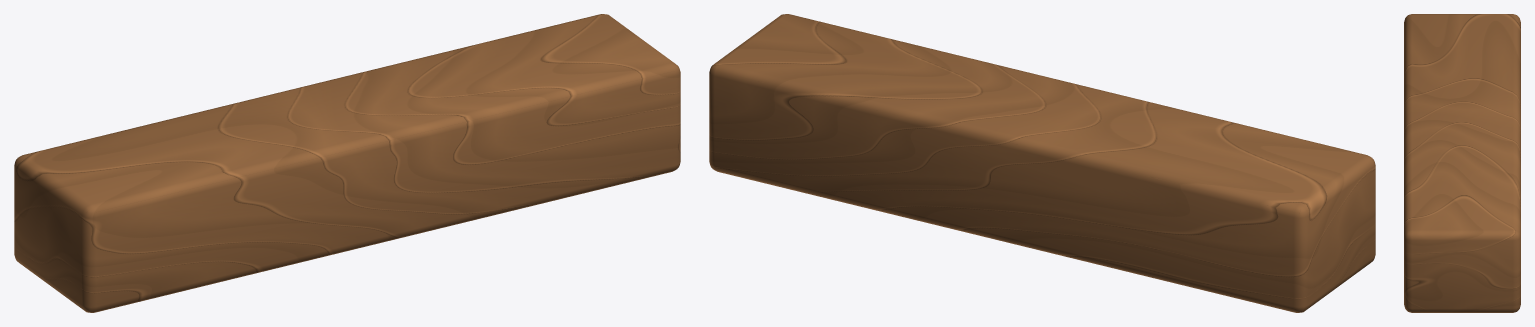
File: Wood.fbx
The picture shows the model from 3 angles, left to right: view 1: azimuth 30°, elevation 25°; view 2: azimuth 150°, elevation 25°; view 3: azimuth 270°, elevation 25°; orthographic projection. The views are drawn at different scales.
Visible parts, largest first — view 1: Wood; view 2: Wood; view 3: Wood.
Part boxes in pixels (bbox=[...]): Wood: bbox=[14, 14, 680, 312]; Wood: bbox=[709, 14, 1375, 312]; Wood: bbox=[1404, 14, 1520, 312].
Size of the model in its own units: 4441 by 767 by 986.
